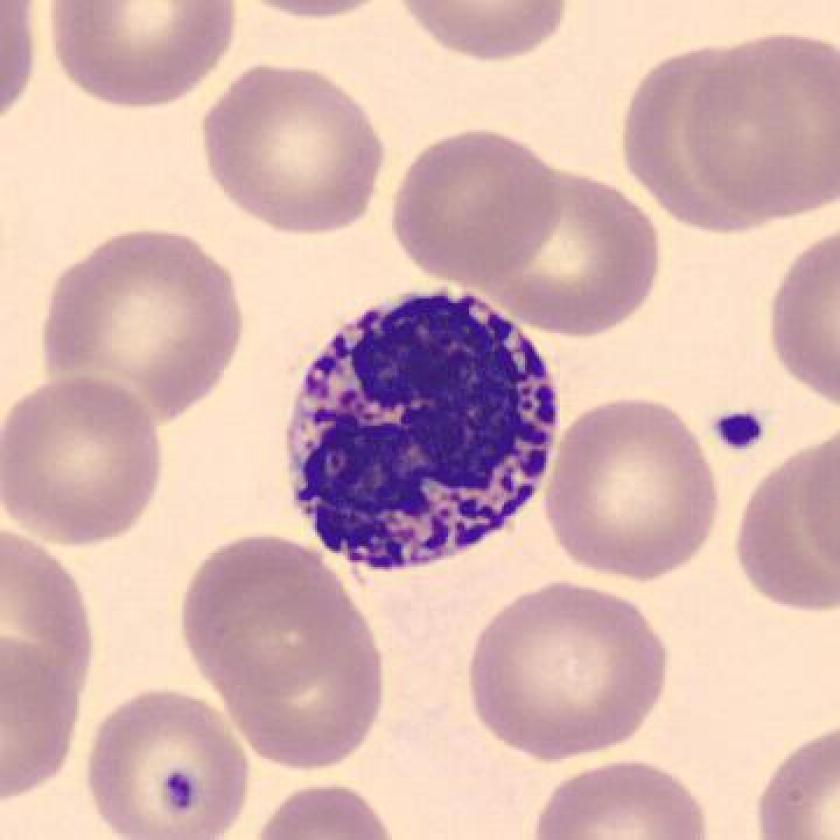basophil: (272, 279, 559, 584)
